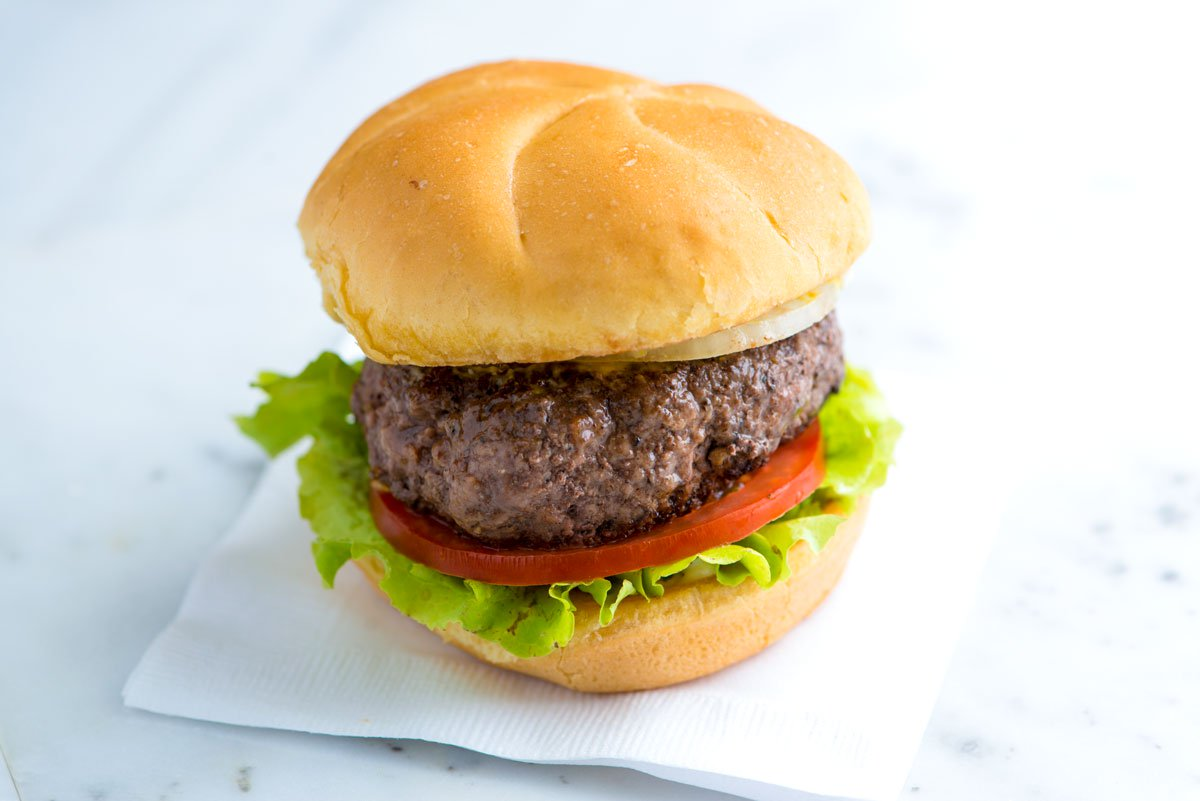hamburger: (264, 27, 931, 717)
